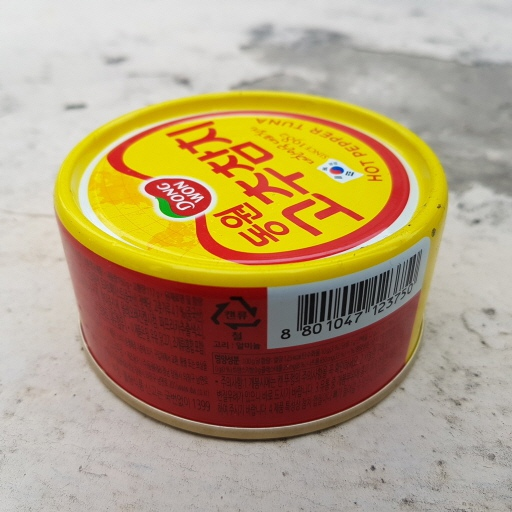Metal_1: (52, 89, 451, 444)
